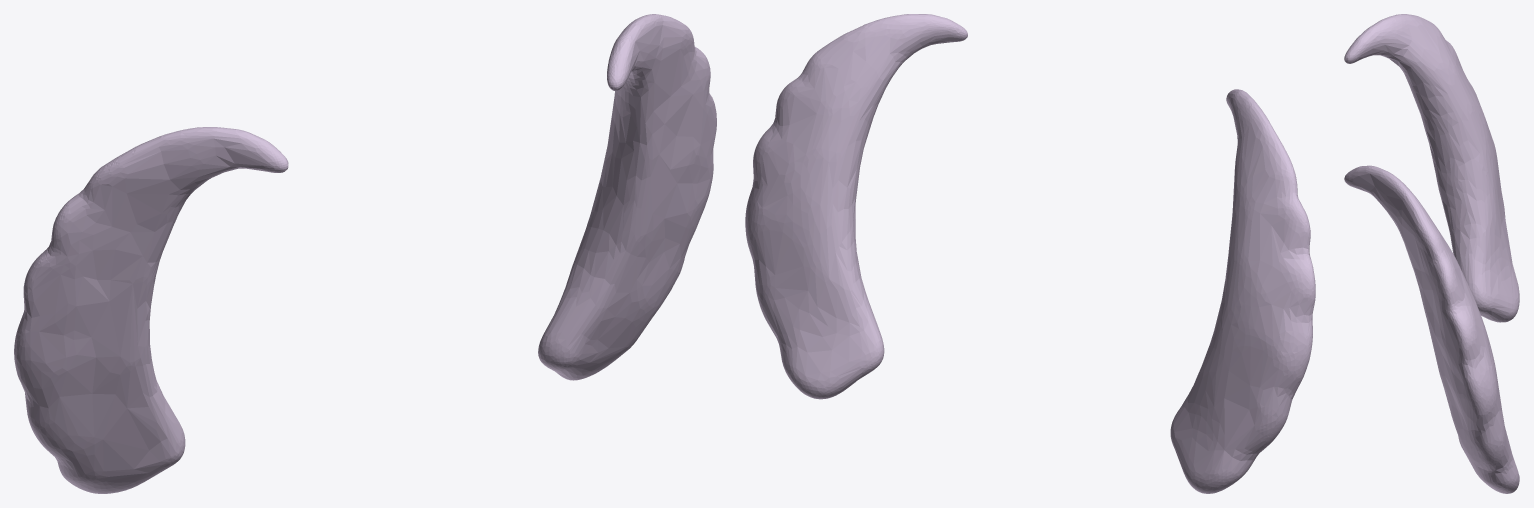
File: hippocampe.glb
3 views of the same model, side by side, from view 1: azimuth 30°, elevation 25°; view 2: azimuth 150°, elevation 25°; view 3: azimuth 270°, elevation 25° (orthographic). The views are drawn at different scales.
Parts seen in each view (by area): view 1: world; view 2: world; view 3: world.
Part boxes in pixels (<box>): world: <box>14,14,716,493</box>; world: <box>745,14,1315,493</box>; world: <box>1344,14,1519,493</box>.
Bounding box in the file's own units: 2 × 1.15 × 0.5907.
